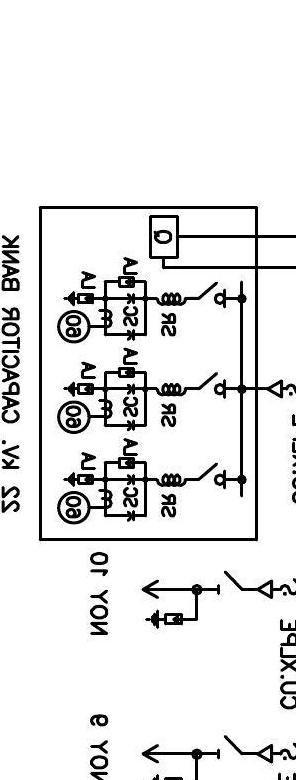22_cap_bank: (38, 205, 259, 542)
22_ds_la_out: (140, 569, 243, 629)
Q: (148, 214, 180, 260)
terminator_single: (266, 379, 284, 400), (256, 579, 274, 599), (256, 744, 273, 764)
